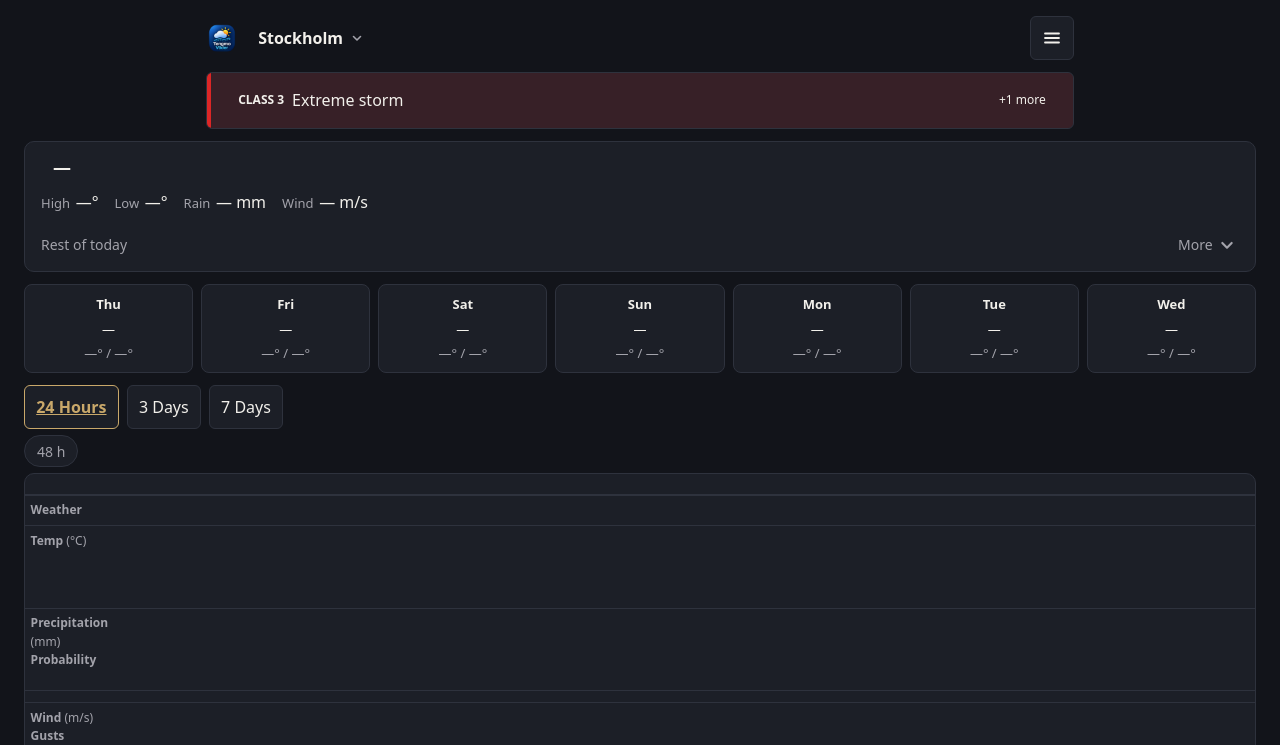
Test: WarningBanner (028-severe-weather-warnings) › leads with the most severe warning and lists every warning when expanded
What coordinates should you click on to do the following:
click the button "Class 3 Extreme storm +1 more"
I would click on:
 (261, 100)
Its box is [227,83,1057,119].
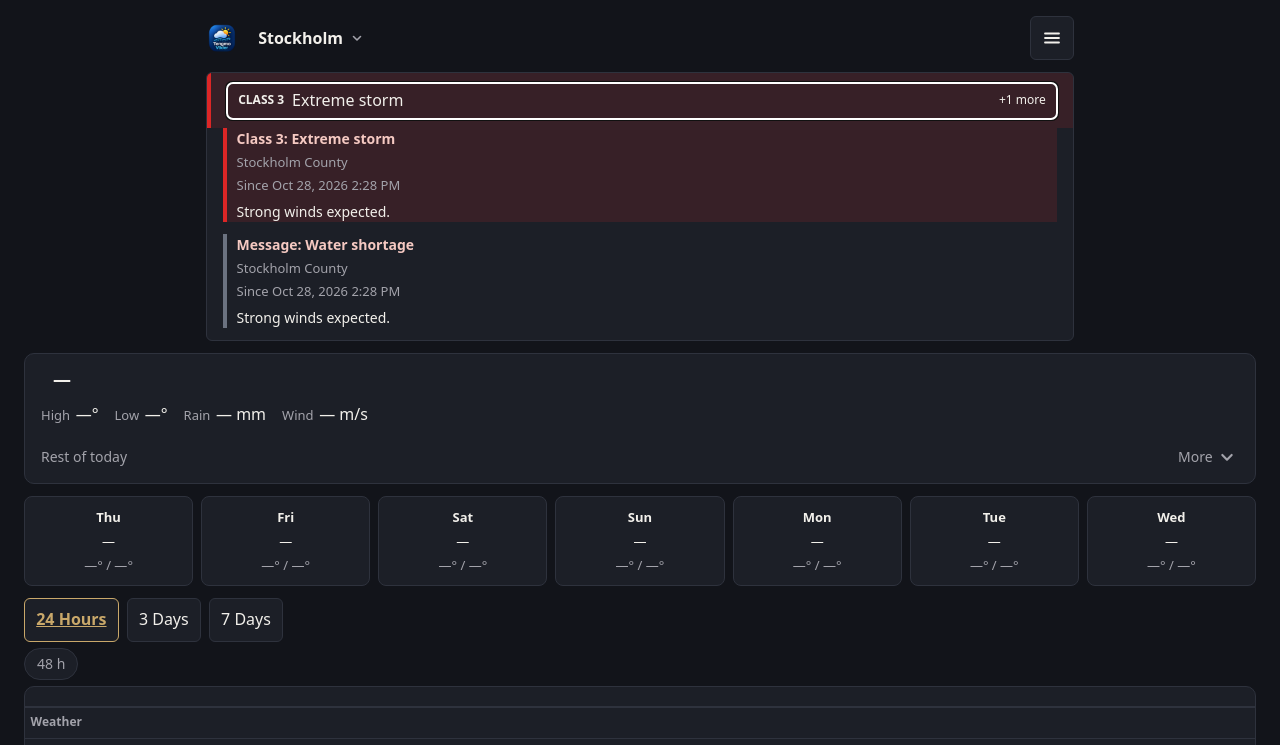
expect the element named "Weather warnings" shows "Water shortage": met, box [305,235,414,254]
